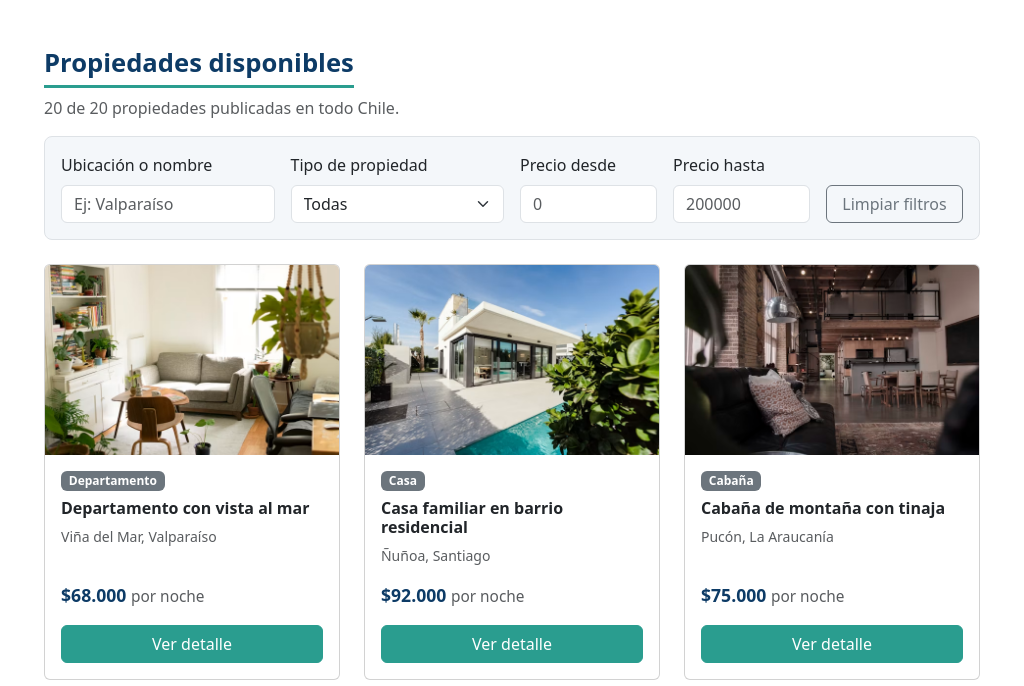
it: Página Propiedades › Al elegir un tipo, muestra solo las propiedades de ese tipo
The width and height of the screenshot is (1024, 686).
Select "Cabaña" in the dropdown labelled "Tipo de propiedad" at (397, 204), box left=290, top=185, right=504, bottom=223
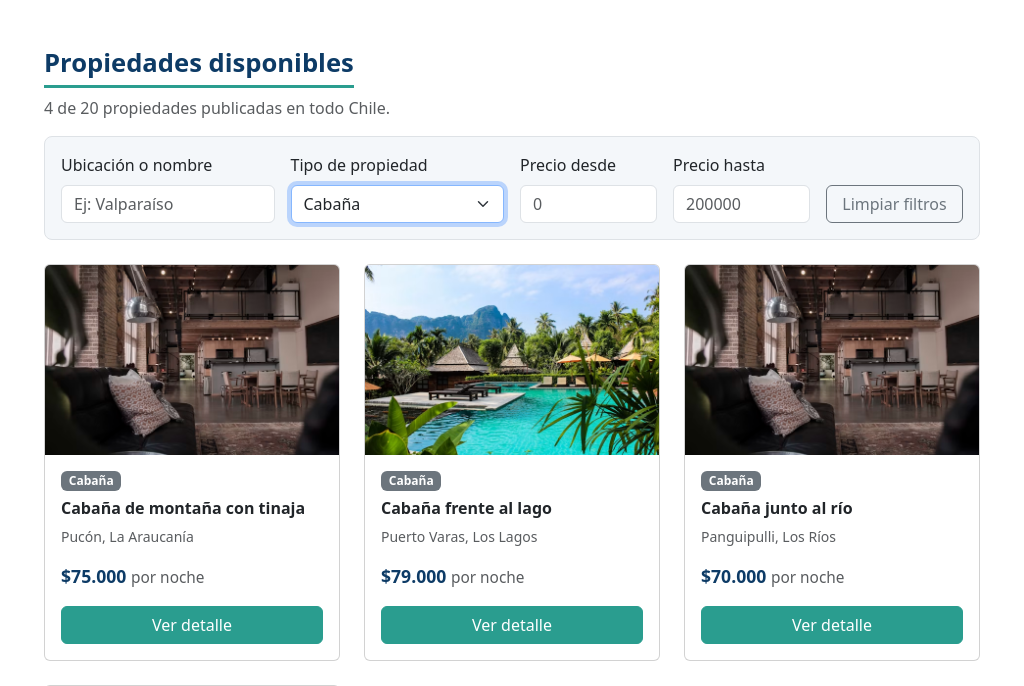
Expected: the heading "Cabaña frente al lago" is shown, left=381, top=497, right=552, bottom=519
Now the number of buttons "Ver detalle" is 4
